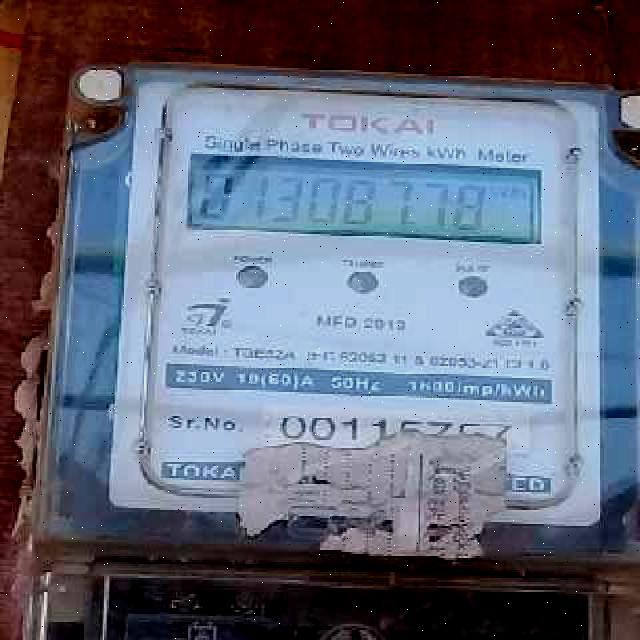LCD: (181, 140, 552, 255)
